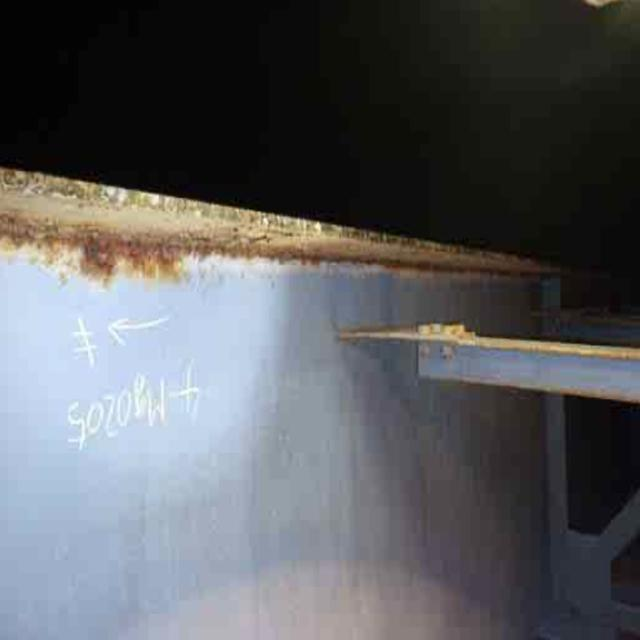corrosion: (14, 187, 557, 313)
